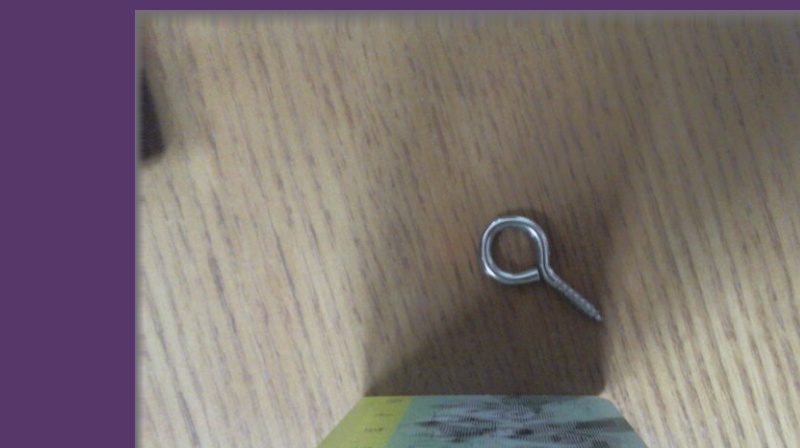O001: (474, 211, 606, 329)
